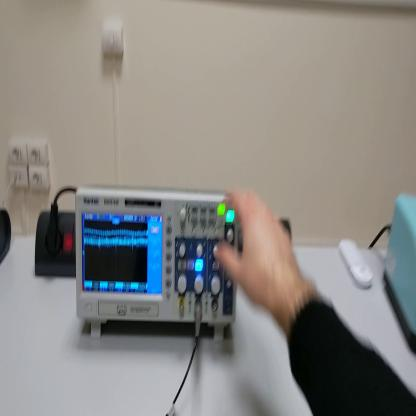hand: (213, 185, 299, 315)
oscilloscope: (75, 184, 245, 332)
socket: (35, 209, 76, 279), (2, 209, 14, 268)
welder base: (383, 193, 415, 356)
